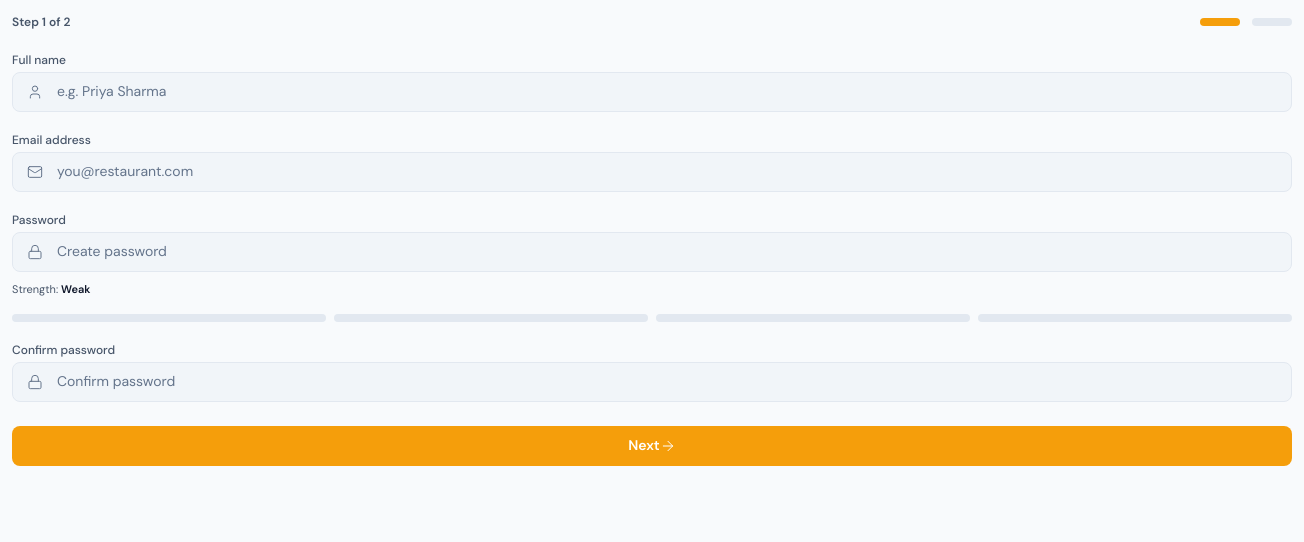
Test: RestaurantSignupForm › clears stale email taken error when user edits email
The width and height of the screenshot is (1304, 542).
In the field labelled "Email address": [674, 172] box [57, 160, 1291, 184], type "taken@restaurant.com"
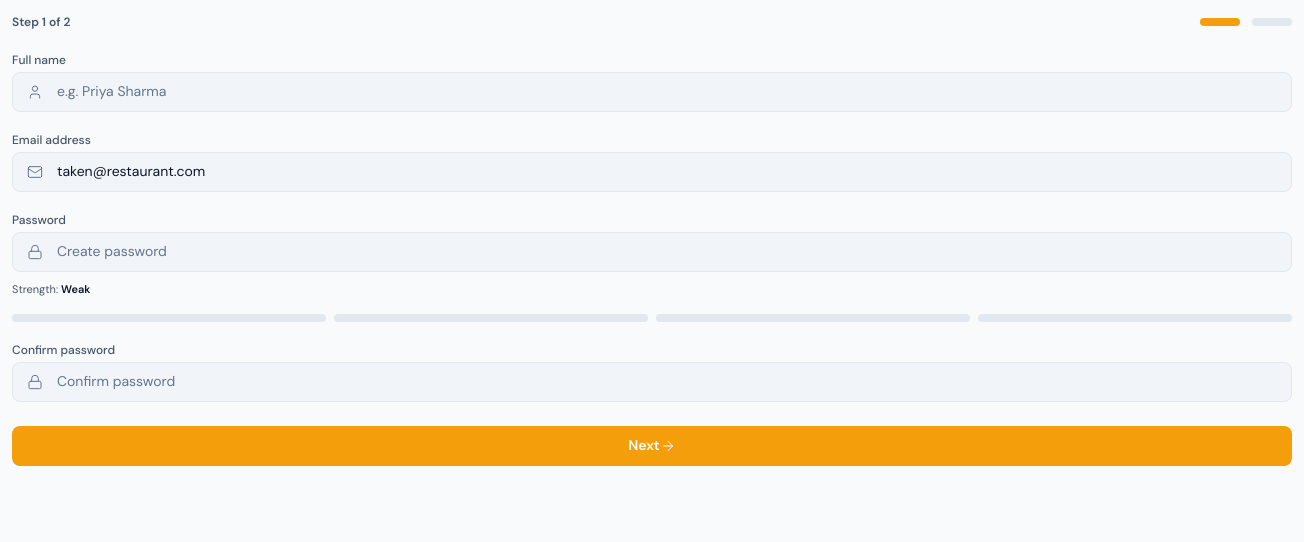
Leave the field labelled "Email address", box [57, 160, 1291, 184]
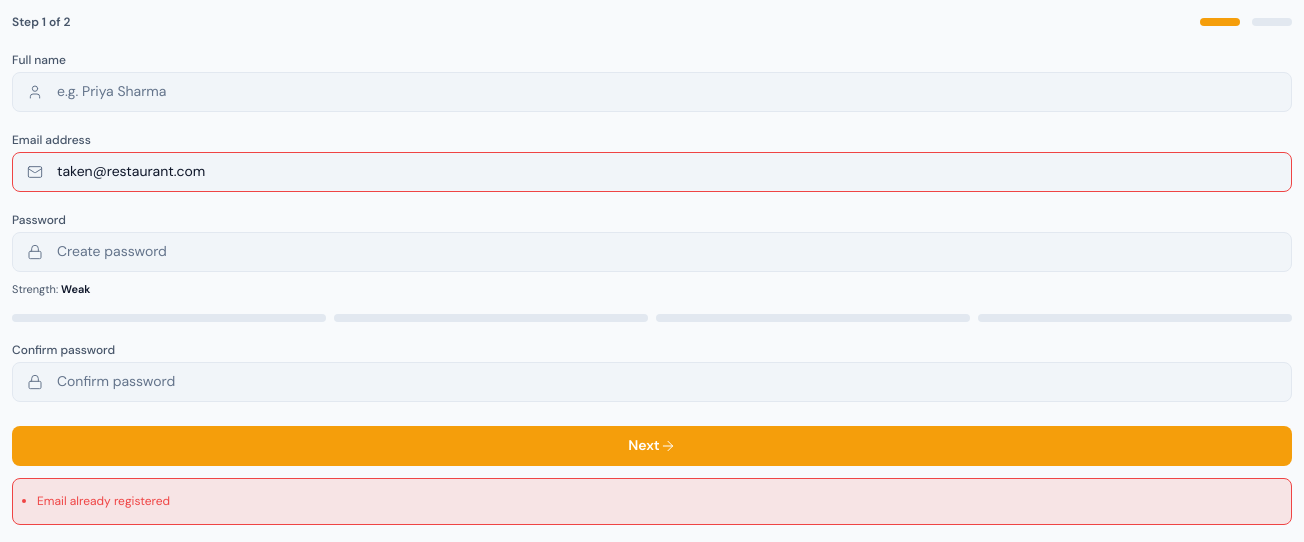
Check: the list item "Email already registered" is shown, box [37, 493, 170, 509]
Replace the text in the field labelled "Email address" with "fresh@restaurant.com": [674, 172] box [57, 160, 1291, 184]
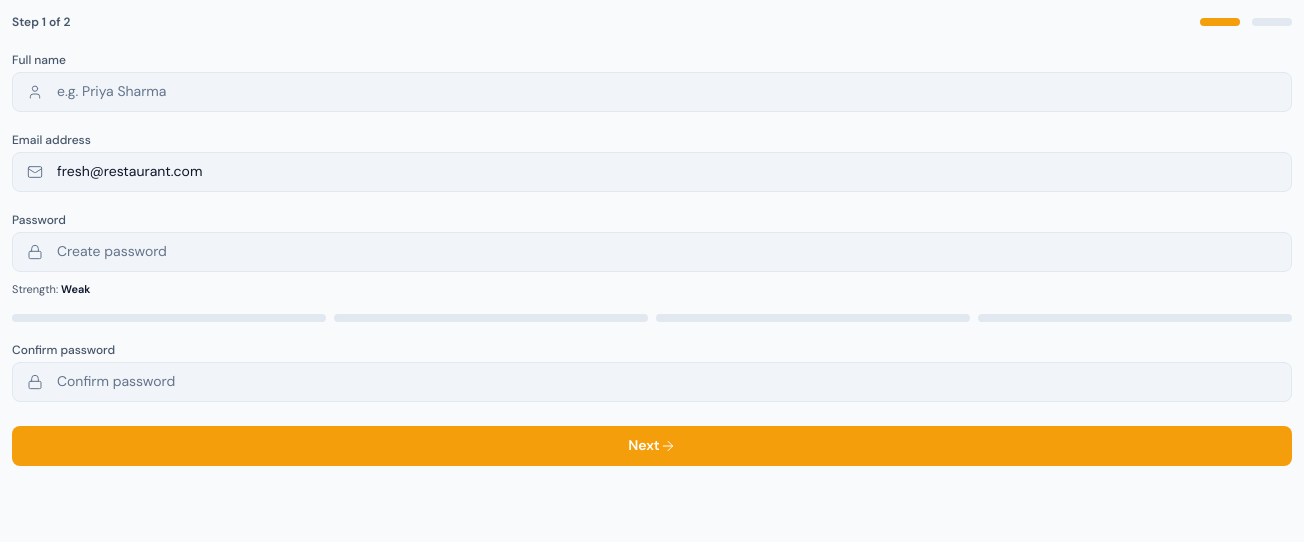
Check: the list item "Email already registered" is gone
